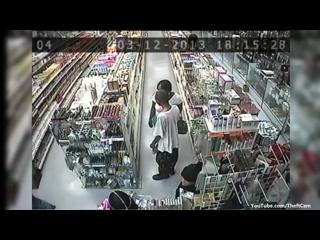Normal: (149, 90, 181, 180), (148, 80, 182, 128)
